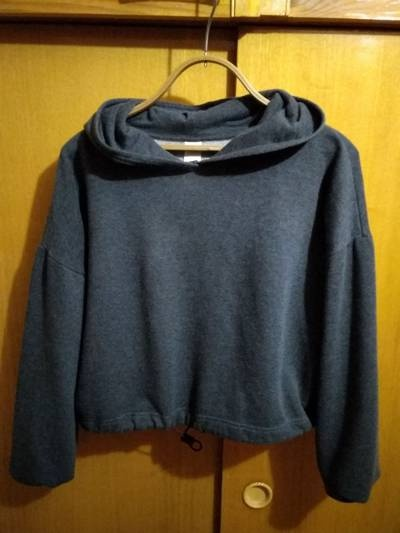Hoodie: (21, 56, 400, 500)
